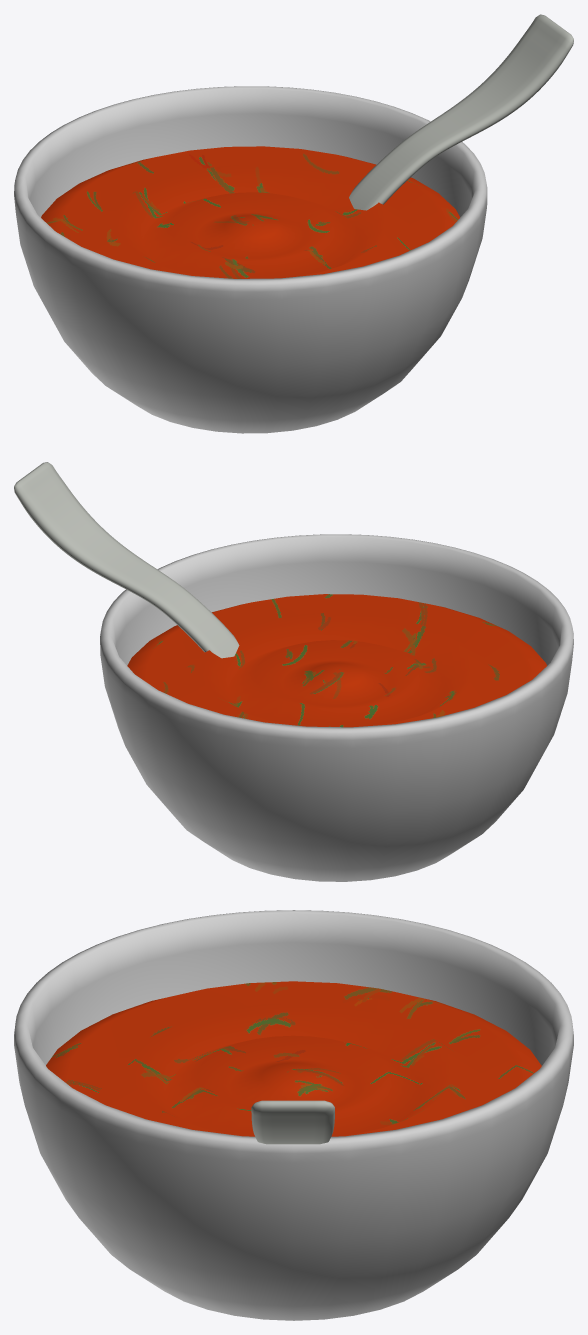
The model's file is soup.obj.
The picture shows the model from 3 angles, top to bottom: view 1: azimuth 30°, elevation 25°; view 2: azimuth 150°, elevation 25°; view 3: azimuth 270°, elevation 25°; orthographic projection. The views are drawn at different scales.
Parts seen in each view (by area): view 1: Sphere001, Cylinder001, Box001; view 2: Sphere001, Cylinder001, Box001; view 3: Sphere001, Cylinder001, Box001.
Boxes of the visible parts, x1,y1,x2,y2 form: Sphere001: [14, 86, 487, 433]; Cylinder001: [41, 146, 459, 278]; Box001: [349, 14, 573, 210]; Sphere001: [100, 534, 573, 881]; Cylinder001: [127, 594, 546, 727]; Box001: [14, 462, 239, 658]; Sphere001: [14, 910, 573, 1320]; Cylinder001: [46, 981, 541, 1136]; Box001: [251, 1100, 334, 1144].
Bounding box in the file's own units: 62.59 × 33.82 × 50.
